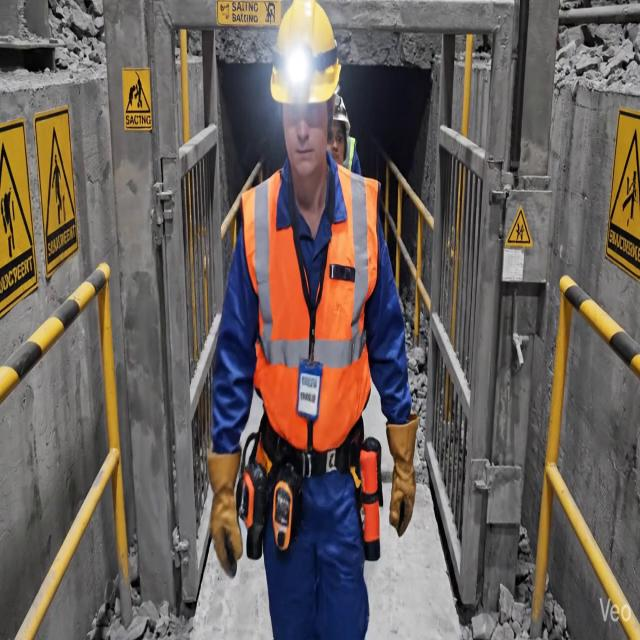Vest: (313, 167, 378, 451)
Worker: (208, 0, 417, 639)
helmet: (271, 0, 340, 103)
